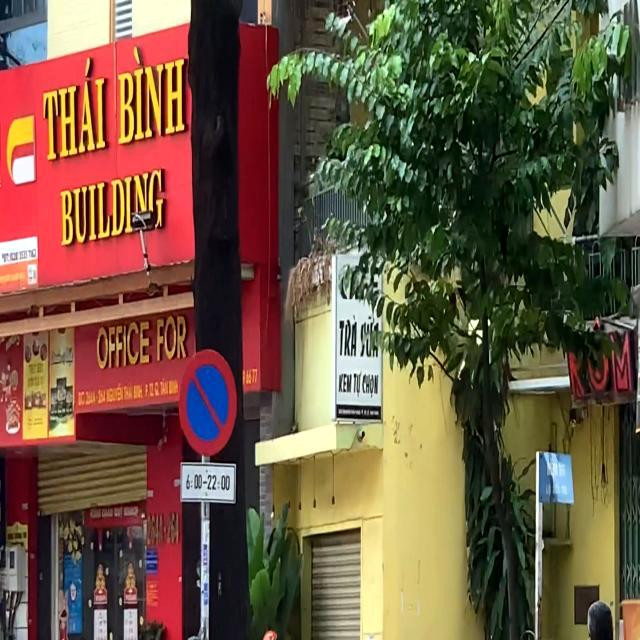Cam do xe: (177, 350, 240, 458)
